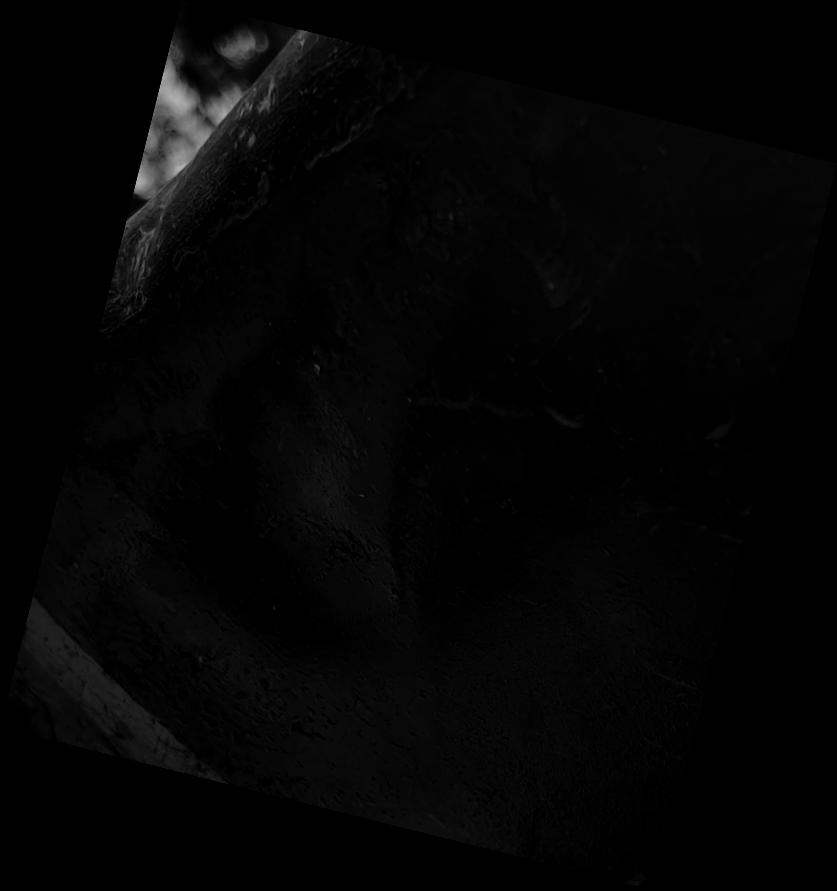dent: (1, 0, 836, 891)
